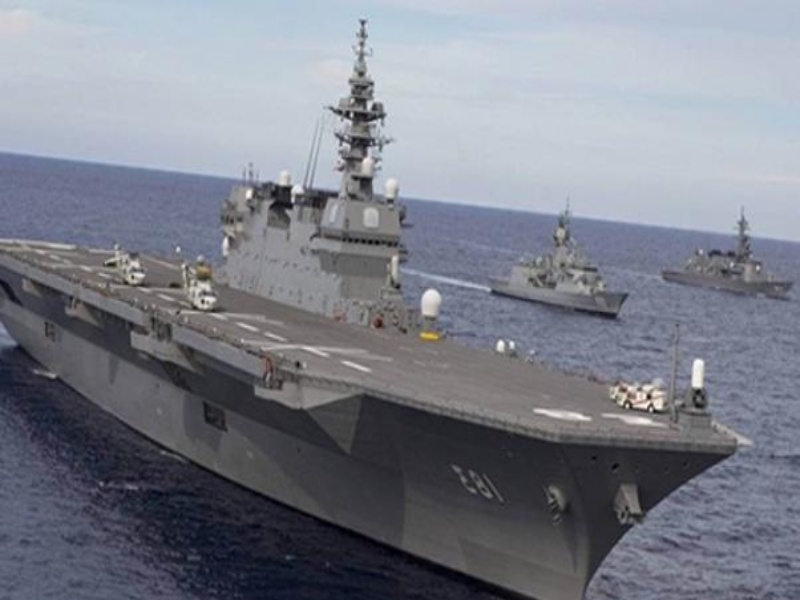carrier: (16, 133, 720, 593)
cruise: (475, 215, 651, 319), (672, 204, 795, 301)
